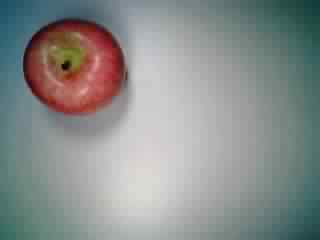apple: (21, 15, 128, 119)
